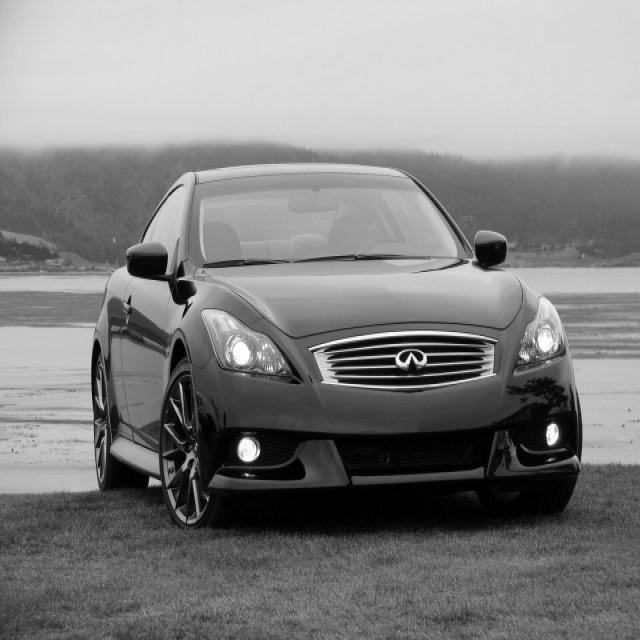car: (90, 162, 583, 530)
